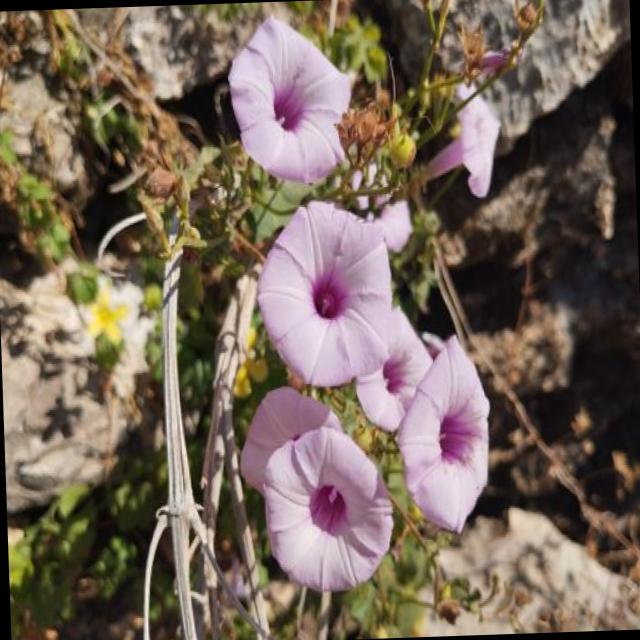ipomoea: (250, 195, 400, 394), (256, 420, 398, 600), (220, 11, 358, 190), (388, 330, 498, 540), (416, 76, 506, 206)
